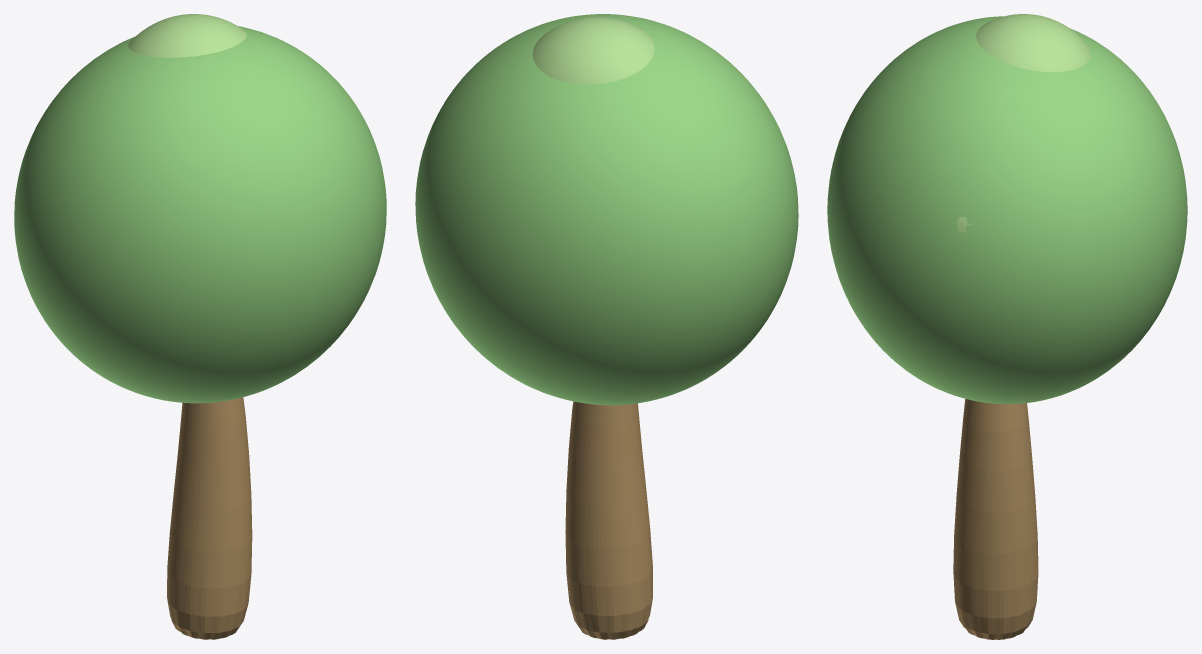
File: tree_ww_round.glb
3 views of the same model, side by side, from view 1: azimuth 30°, elevation 25°; view 2: azimuth 150°, elevation 25°; view 3: azimuth 270°, elevation 25° (orthographic). The views are drawn at different scales.
Parts seen in each view (by area): view 1: Canopy, Trunk, Puff3; view 2: Canopy, Trunk, Puff3; view 3: Canopy, Trunk, Puff3.
Part boxes in pixels (bbox=[...]): Canopy: bbox=[14, 26, 386, 403]; Trunk: bbox=[167, 397, 252, 639]; Puff3: bbox=[128, 14, 246, 57]; Canopy: bbox=[415, 14, 798, 405]; Trunk: bbox=[565, 401, 652, 639]; Puff3: bbox=[532, 17, 654, 84]; Canopy: bbox=[827, 16, 1187, 403]; Trunk: bbox=[953, 399, 1038, 639]; Puff3: bbox=[976, 14, 1090, 71].
Size of the model in its own units: 1.65 by 2.9 by 1.56.
